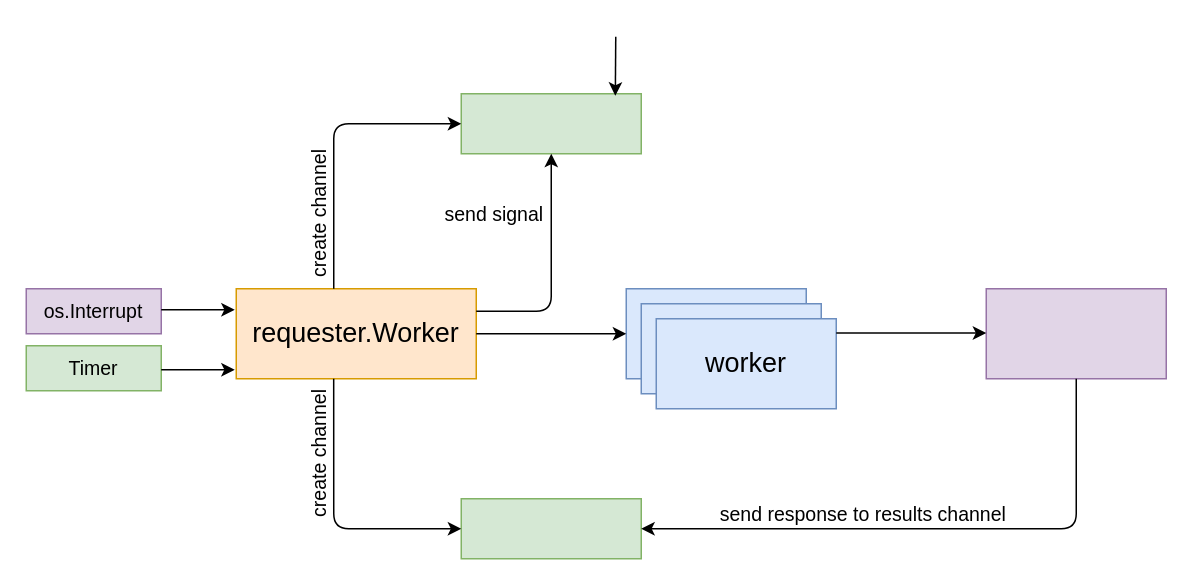
This 1193x585 diagram has some shape labels left out. The shapes that lost their labels are listed below. From the top down, each one's centre as x and y in pixels, then its label:
the point at 550,123: stopCh
the point at 1075,333: service
the point at 550,528: results
